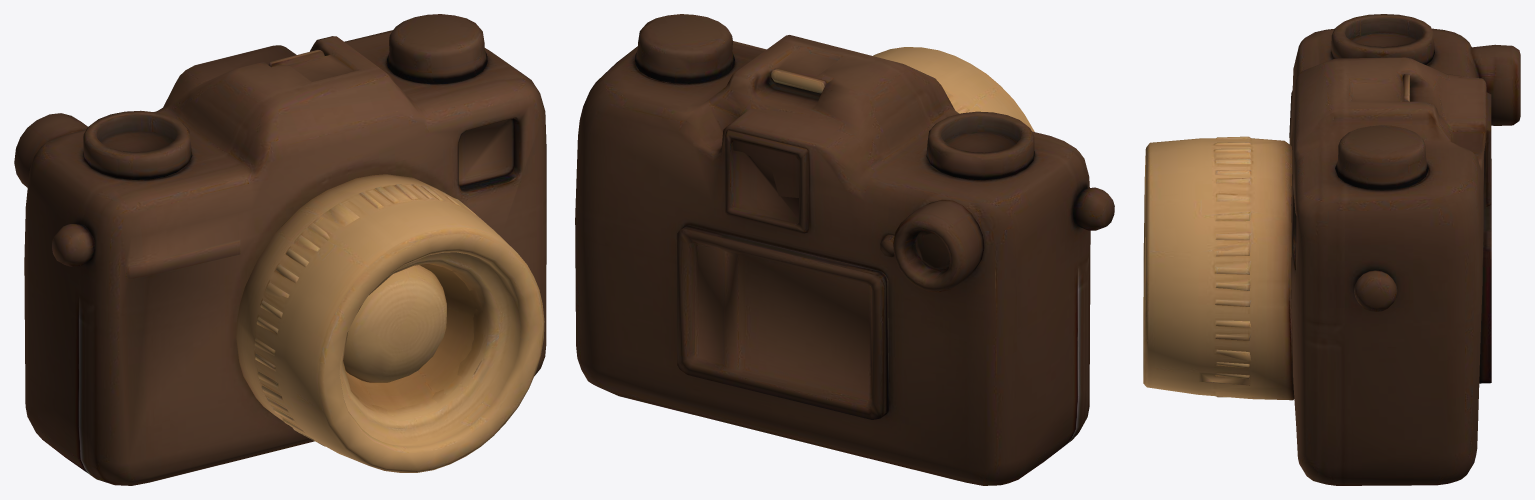
Rendered from tourist_acc_camera.glb.
3 views of the same model, side by side, from view 1: azimuth 30°, elevation 25°; view 2: azimuth 150°, elevation 25°; view 3: azimuth 270°, elevation 25° (orthographic). The views are drawn at different scales.
Visible parts, largest first — view 1: tripo_node_9cb9d168-6c3a-4655-9aa1-8975a5771881; view 2: tripo_node_9cb9d168-6c3a-4655-9aa1-8975a5771881; view 3: tripo_node_9cb9d168-6c3a-4655-9aa1-8975a5771881.
Boxes of the visible parts, <box> form: tripo_node_9cb9d168-6c3a-4655-9aa1-8975a5771881: <box>14,14,546,485</box>; tripo_node_9cb9d168-6c3a-4655-9aa1-8975a5771881: <box>575,14,1114,485</box>; tripo_node_9cb9d168-6c3a-4655-9aa1-8975a5771881: <box>1143,14,1520,485</box>.
Bounding box in the file's own units: 0.9995 × 0.6597 × 0.6948.
Materials: 1 (1 with a texture image).
